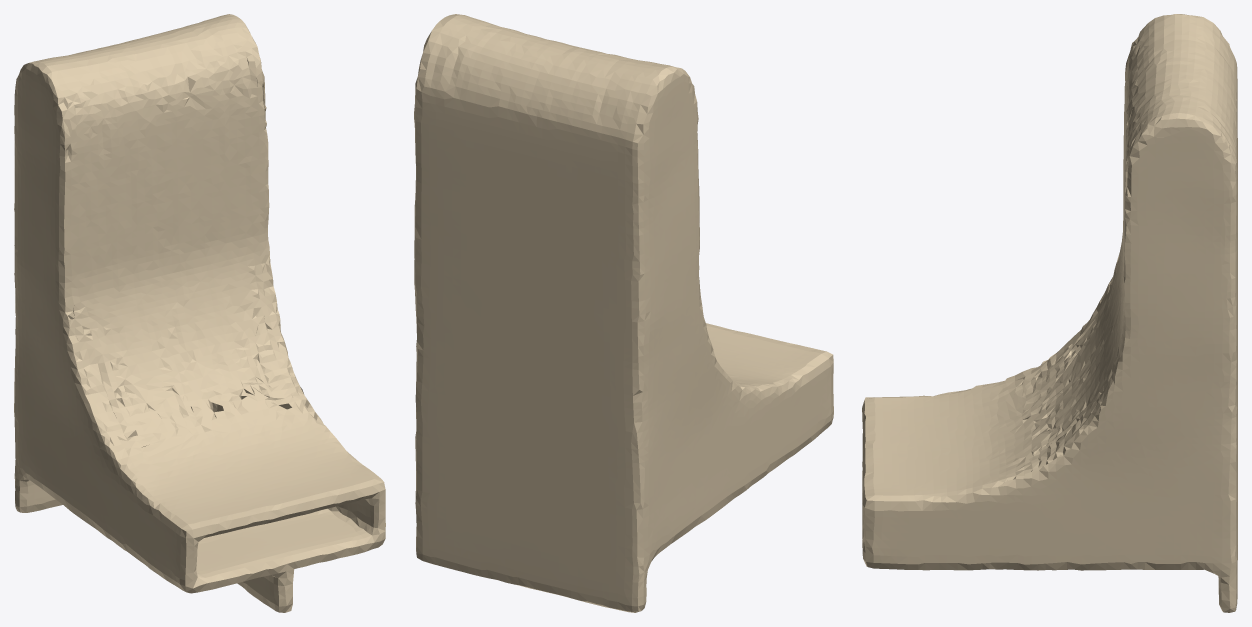
File: skulptur-09.glb
3 renders of one model, left to right at view 1: azimuth 30°, elevation 25°; view 2: azimuth 150°, elevation 25°; view 3: azimuth 270°, elevation 25°, orthographic. The views are drawn at different scales.
Visible parts, largest first — view 1: skulptur-09; view 2: skulptur-09; view 3: skulptur-09.
Boxes of the visible parts, x1,y1,x2,y2 form: skulptur-09: (14,14,385,612); skulptur-09: (414,14,833,612); skulptur-09: (862,14,1237,612).
Bounding box in the file's own units: 0.4674 × 0.998 × 0.6775.
